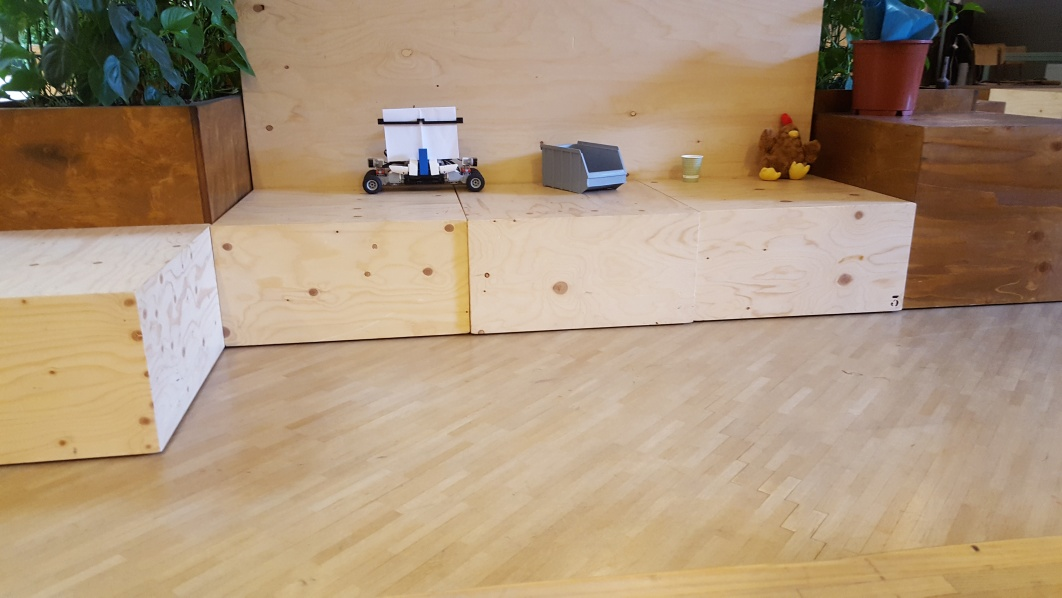car: (362, 104, 486, 194)
chicken: (755, 111, 820, 187)
cup: (680, 153, 705, 179)
tray: (536, 138, 631, 193)
